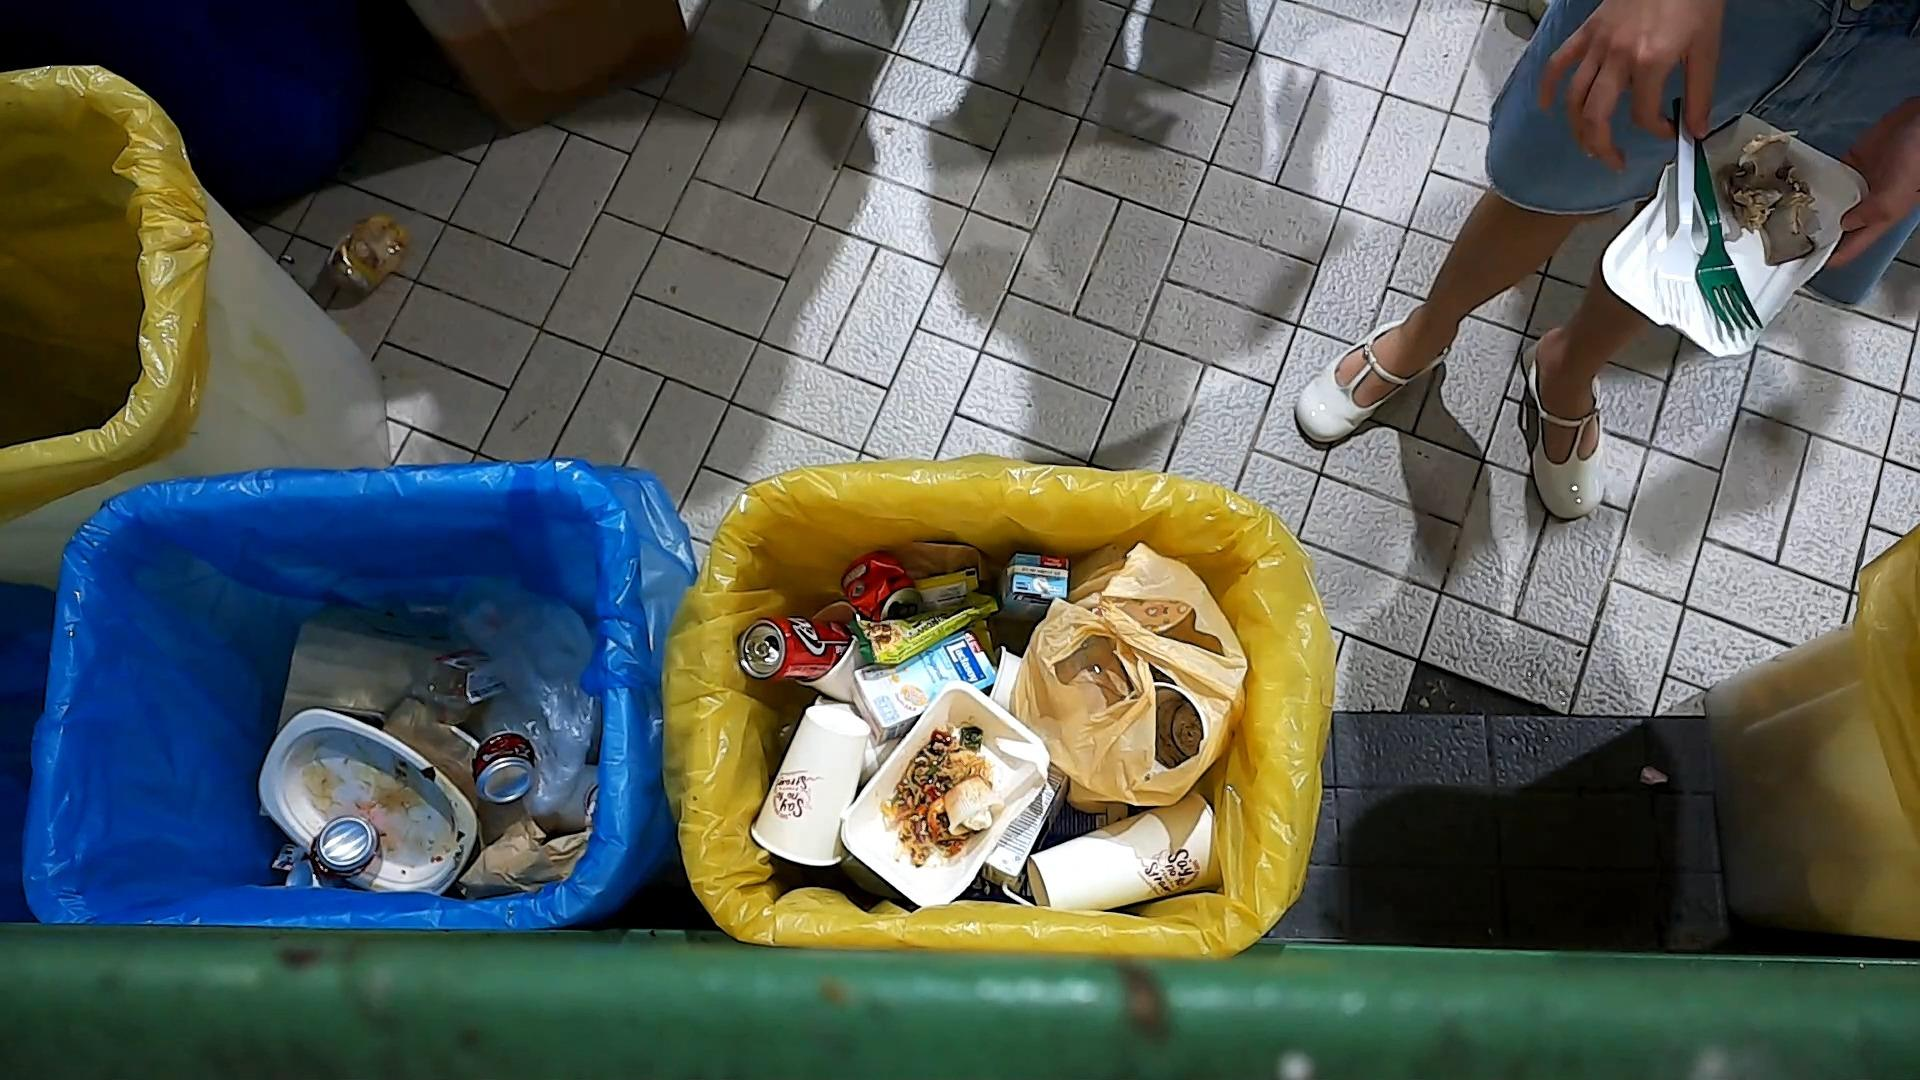can: (735, 611, 853, 686), (836, 545, 927, 624), (465, 723, 543, 807), (307, 812, 382, 884)
dirty food container: (1598, 105, 1871, 369), (835, 674, 1055, 910), (939, 773, 1009, 841)
filled plastic bag: (1006, 538, 1255, 812)
food container: (239, 696, 484, 897), (400, 644, 514, 729)
milk carton: (848, 625, 1001, 749), (982, 761, 1073, 907), (993, 551, 1071, 633)
paper bag: (451, 802, 597, 903)
plastic bag: (473, 589, 604, 822)
plastic cutlery: (1668, 94, 1770, 344), (1651, 95, 1710, 330)
snack packaging: (845, 587, 1006, 669)
zero waste cup: (1023, 787, 1226, 918), (745, 703, 874, 870)
